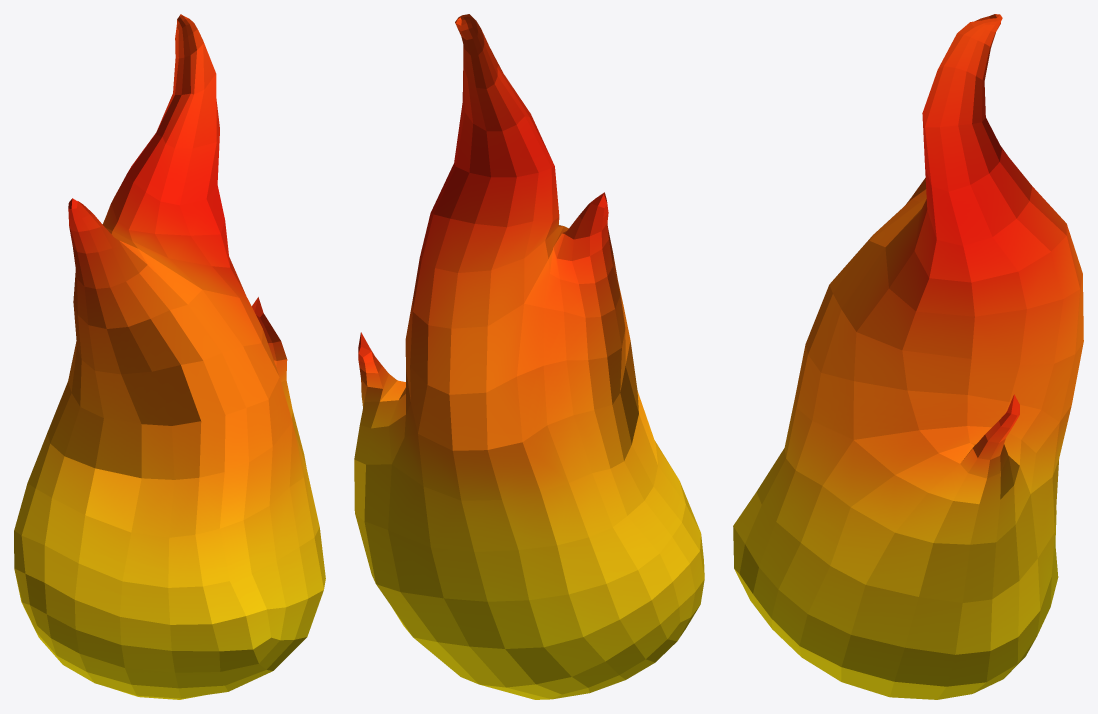
Rendered from fire.fbx.
3 views of the same model, side by side, from view 1: azimuth 30°, elevation 25°; view 2: azimuth 150°, elevation 25°; view 3: azimuth 270°, elevation 25° (orthographic). The views are drawn at different scales.
Parts seen in each view (by area): view 1: fire3:Group20972; view 2: fire3:Group20972; view 3: fire3:Group20972.
Boxes of the visible parts, x1,y1,x2,y2 form: fire3:Group20972: (14, 14, 325, 699); fire3:Group20972: (354, 14, 704, 699); fire3:Group20972: (733, 14, 1083, 699).
Size of the model in its own units: 0.297 by 0.6383 by 0.2942.
1 material, 1 textured.
